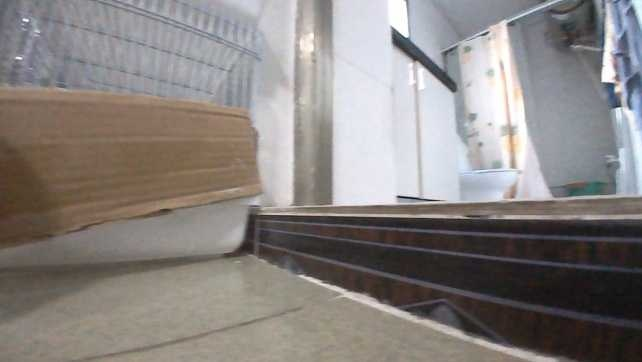door_sill: (249, 198, 641, 360)
toilet: (452, 131, 524, 203)
